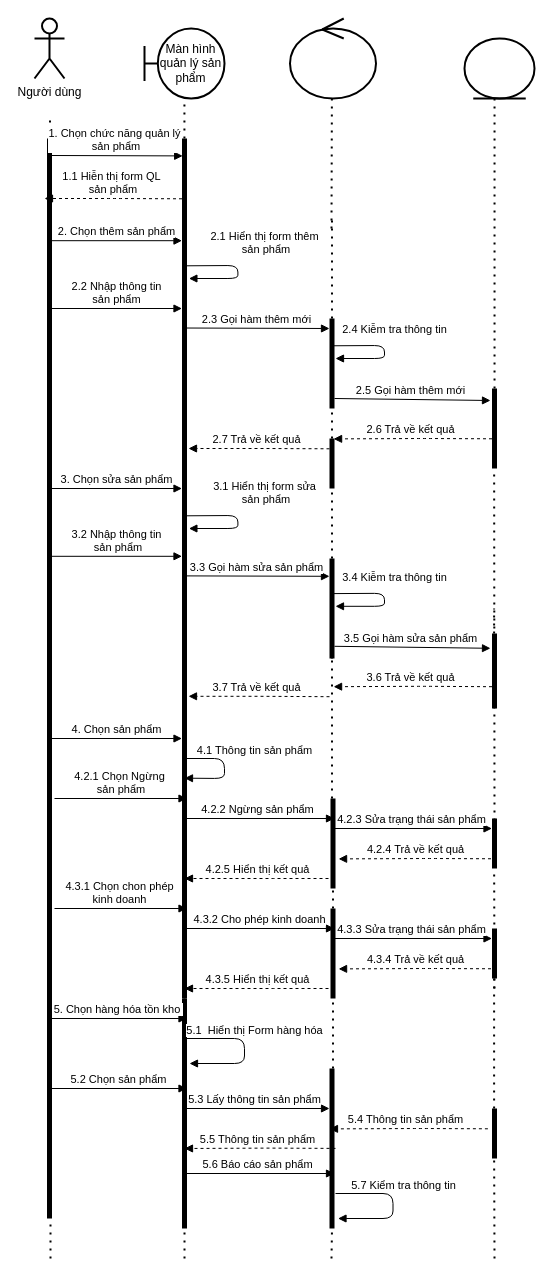
Image size: 552x1277. Some labels were removed from this diagram. Each missing label, with the centre of its shape:
Sản phẩm: the point at 499,68
Xử lý quản lý sản phẩm: the point at 332,58
